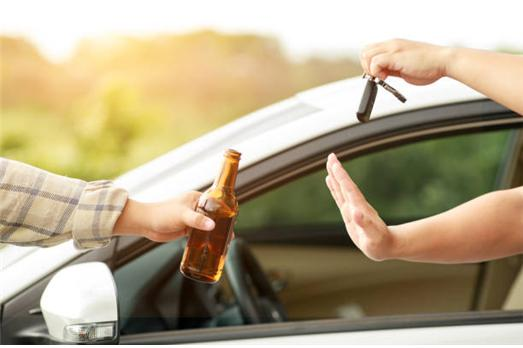alcohol: (179, 147, 245, 283)
